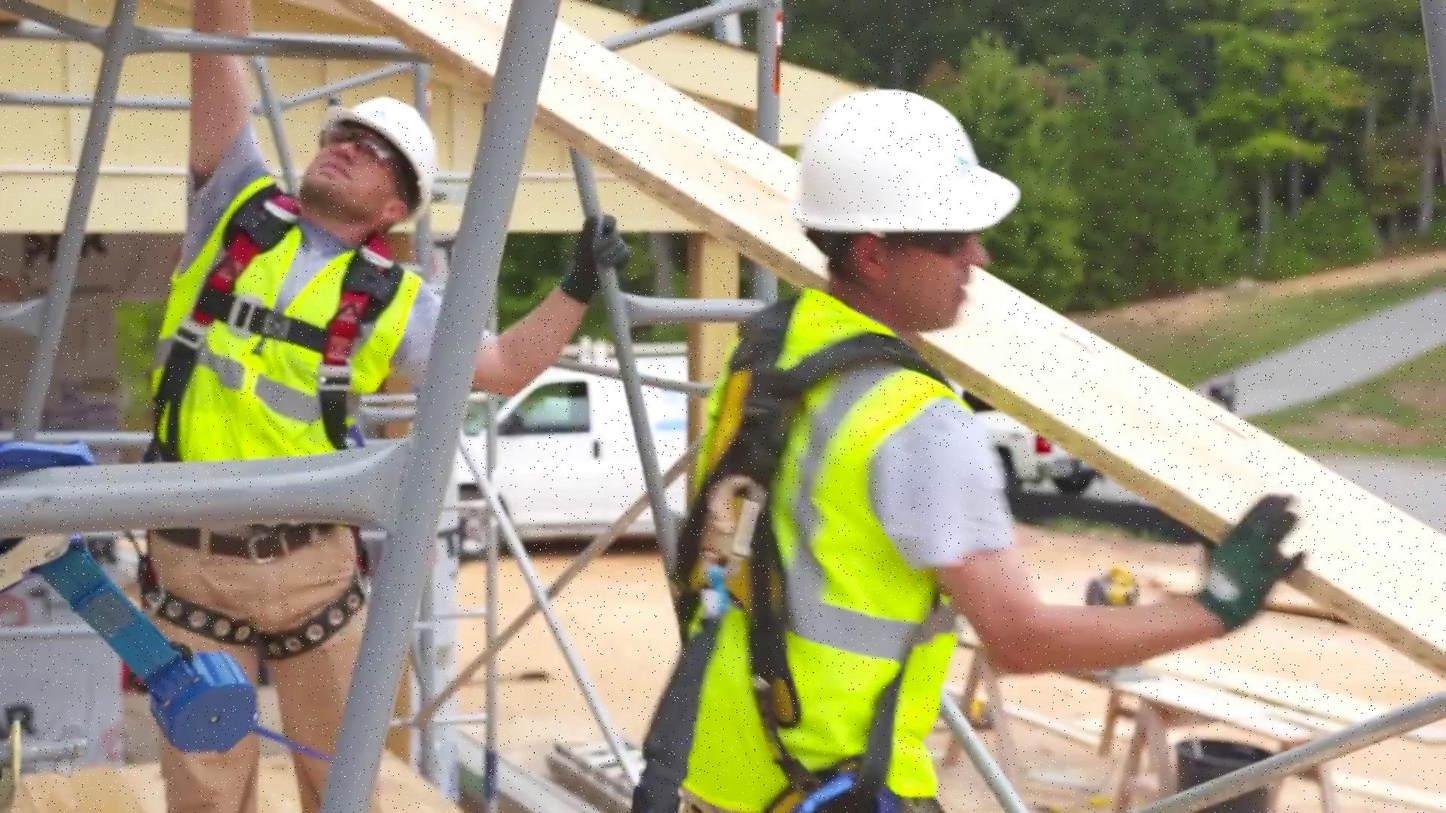Hard_hat: (785, 82, 1020, 234), (333, 88, 437, 196)
Vest: (702, 329, 989, 813), (171, 192, 395, 508)
